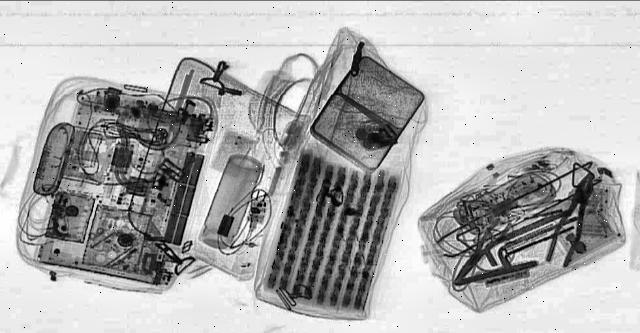Pliers: (542, 172, 602, 267), (443, 215, 519, 281)
